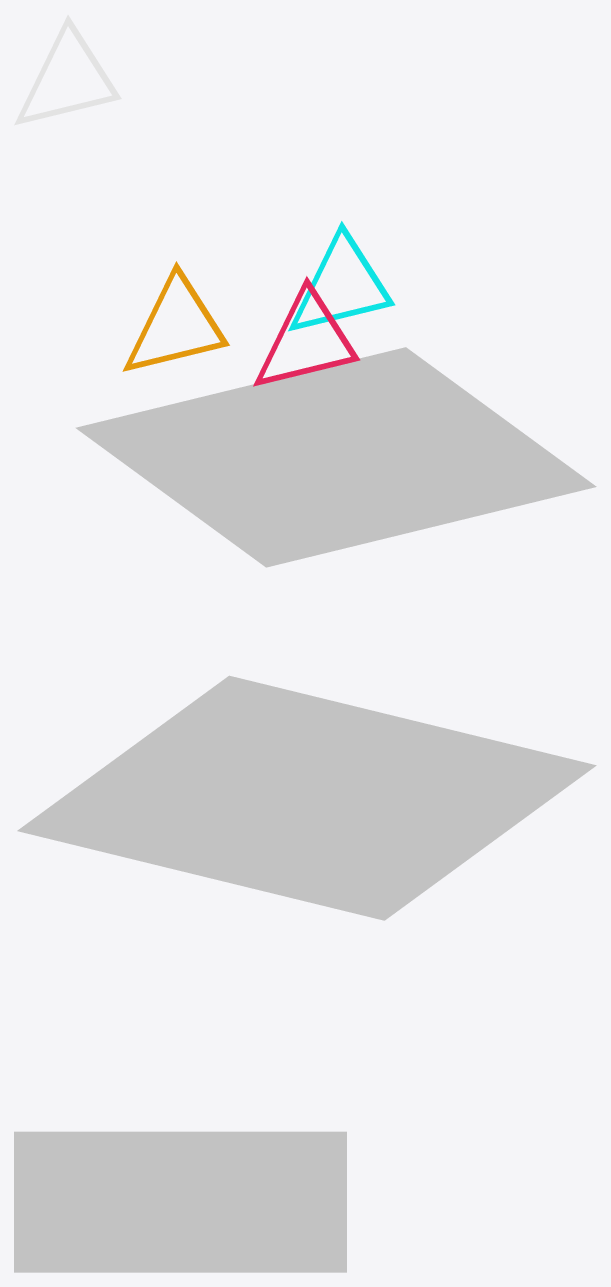
The model's file is sceneall.gltf.
3 renders of one model, top to bottom at view 1: azimuth 30°, elevation 25°; view 2: azimuth 150°, elevation 25°; view 3: azimuth 270°, elevation 25°, orthographic. The views are drawn at different scales.
Bounding box in the file's own units: 8.01 × 6.36 × 14.
